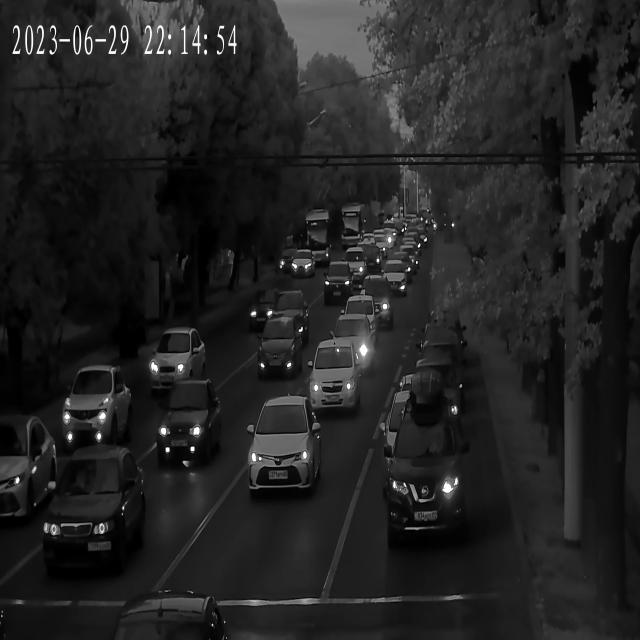Bus: (299, 209, 328, 262), (340, 208, 367, 248)
Car: (43, 446, 148, 570), (384, 399, 468, 546), (247, 398, 320, 498), (0, 412, 52, 525), (59, 364, 130, 444), (156, 384, 223, 468), (106, 597, 225, 640), (394, 370, 463, 432), (149, 328, 210, 394), (309, 342, 362, 415), (320, 318, 378, 381), (253, 315, 305, 379), (404, 354, 466, 398), (261, 289, 311, 342), (352, 278, 394, 330), (335, 296, 382, 342), (416, 336, 469, 375), (322, 262, 358, 301), (379, 262, 411, 293), (386, 251, 417, 280), (290, 252, 315, 278), (342, 252, 366, 279), (351, 244, 379, 267), (396, 240, 420, 258), (370, 231, 391, 251)
